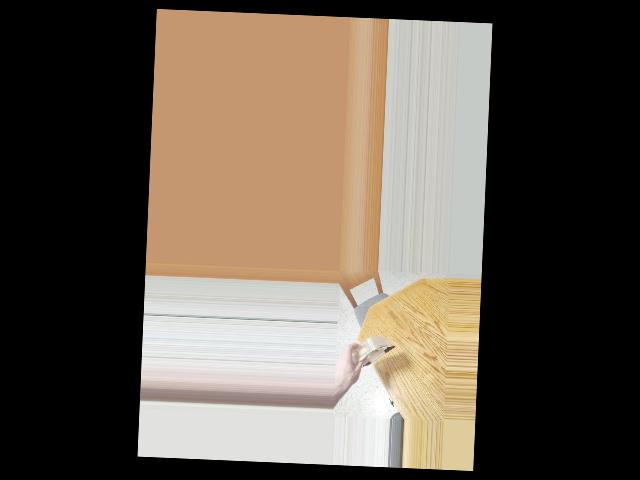cheese: (345, 329, 391, 383)
